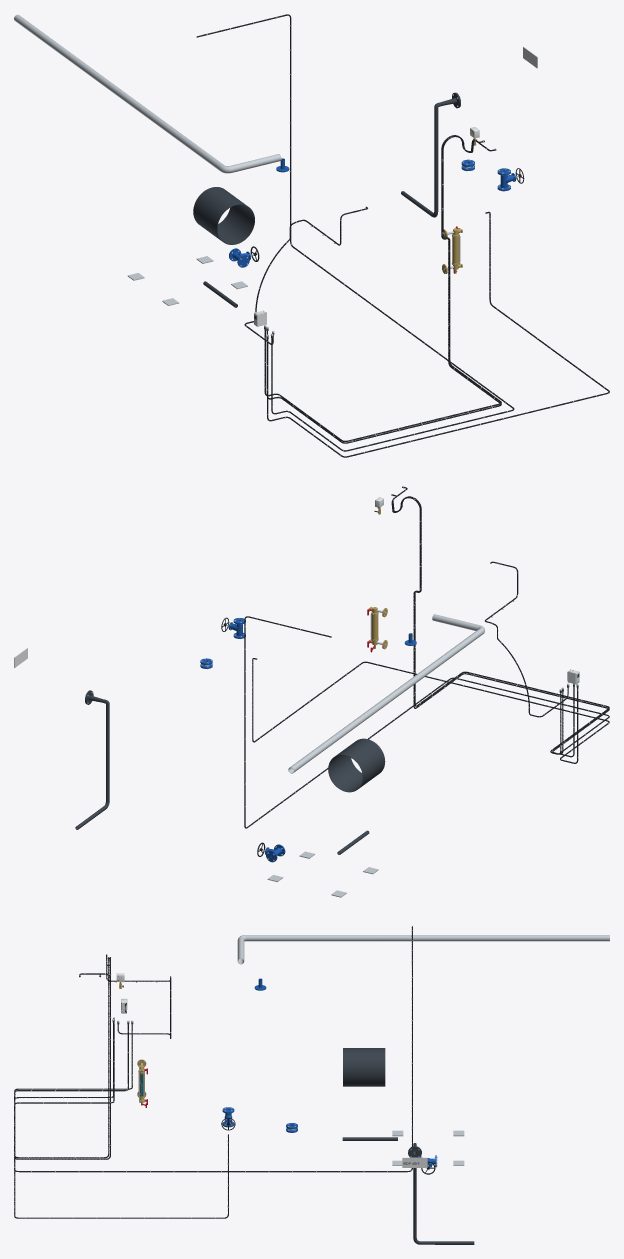
3 renders of one model, top to bottom at view 1: azimuth 30°, elevation 25°; view 2: azimuth 150°, elevation 25°; view 3: azimuth 270°, elevation 25°, orthographic. The views are drawn at different scales.
Parts seen in each view (by area): view 1: safety_vent_1 / steel, flue_spacer / dark, mod_eco_drive_cable / black, wiring_pump_1 / black, wiring_pressure_switch_2 / black, wiring_pressure_switch_1 / black, bottom_to_bdv / dark; view 2: flue_spacer / dark, safety_vent_1 / steel, mod_eco_drive_cable / black, wiring_pressure_switch_1 / black, wiring_pump_1 / black, wiring_pressure_switch_2 / black, bottom_to_bdv / dark; view 3: safety_vent_1 / steel, flue_spacer / dark, mod_eco_drive_cable / black, wiring_pressure_switch_2 / black, wiring_pump_1 / black, wiring_pressure_switch_1 / black, bottom_to_bdv / dark.
Boxes of the visible parts, <box> form: safety_vent_1 / steel: <box>14,14,281,173</box>; flue_spacer / dark: <box>193,187,254,244</box>; mod_eco_drive_cable / black: <box>196,14,514,451</box>; wiring_pump_1 / black: <box>267,211,609,457</box>; wiring_pressure_switch_2 / black: <box>264,135,501,441</box>; wiring_pressure_switch_1 / black: <box>266,135,501,443</box>; bottom_to_bdv / dark: <box>401,92,460,217</box>; flue_spacer / dark: <box>328,738,385,792</box>; safety_vent_1 / steel: <box>288,614,484,773</box>; mod_eco_drive_cable / black: <box>244,616,609,828</box>; wiring_pressure_switch_1 / black: <box>391,487,609,754</box>; wiring_pump_1 / black: <box>252,658,609,763</box>; wiring_pressure_switch_2 / black: <box>393,494,609,754</box>; bottom_to_bdv / dark: <box>75,690,109,829</box>; safety_vent_1 / steel: <box>237,935,609,964</box>; flue_spacer / dark: <box>343,1048,385,1086</box>; mod_eco_drive_cable / black: <box>14,926,412,1172</box>; wiring_pressure_switch_2 / black: <box>14,957,132,1158</box>; wiring_pump_1 / black: <box>14,1023,228,1218</box>; wiring_pressure_switch_1 / black: <box>14,957,128,1159</box>; bottom_to_bdv / dark: <box>408,1143,474,1244</box>.
Size of the model in its own units: 5.3 by 2.96 by 7.03.
